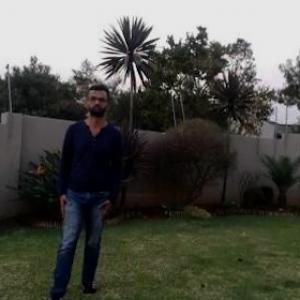follow: (45, 60, 129, 299)
